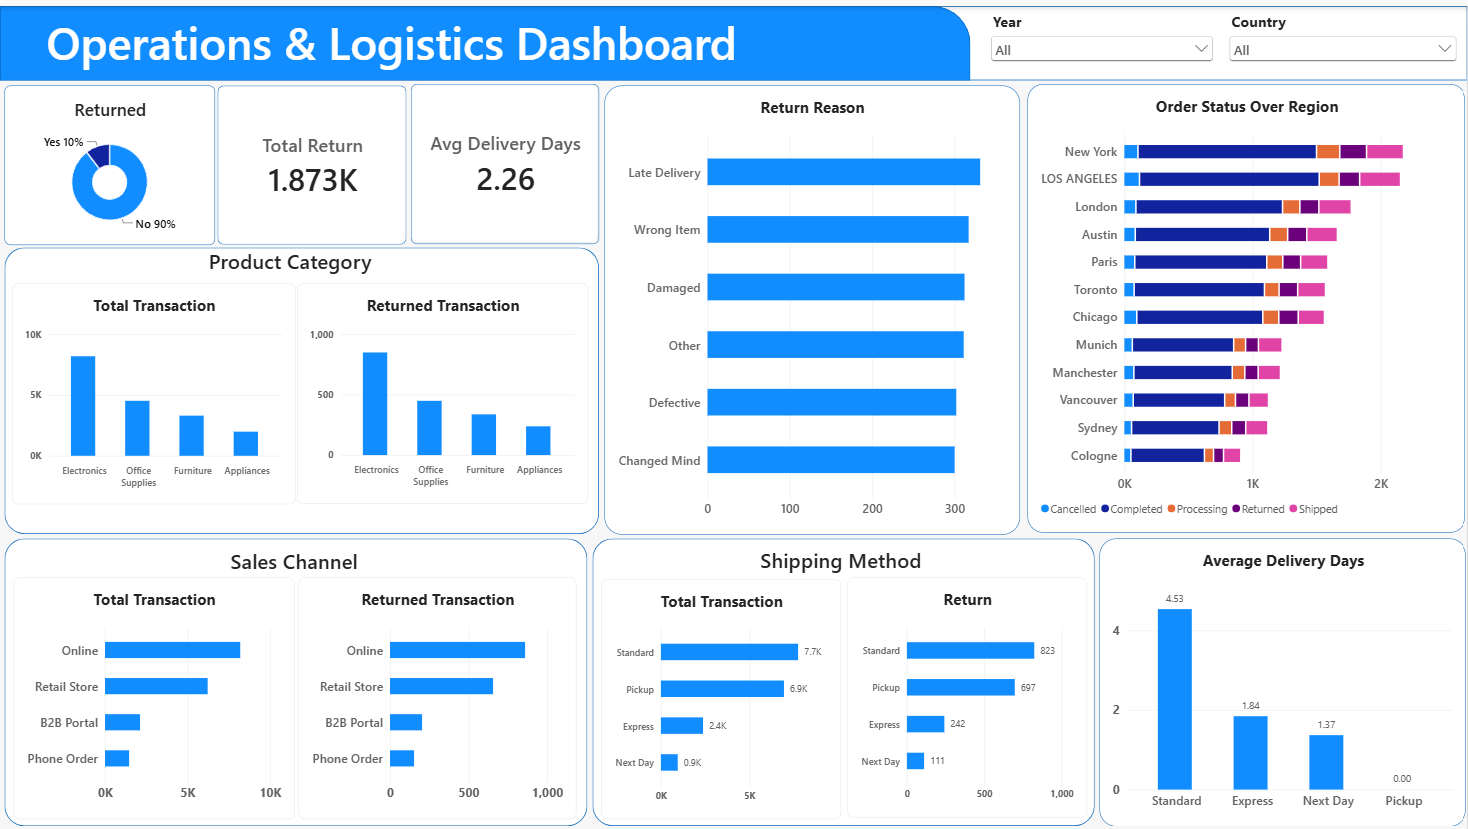

The dashboard page shown, as its layout file describes it:
{"tool":"powerbi","page":{"name":"Operations &Logistics","canvas":[1920,1080],"ordinal":1},"visuals":[{"type":"group","id":"g1","title":"Group 3","box":[0,0,1920,97.3],"z":0},{"type":"shape","box":[0,0,1269,97.6],"z":0,"group":"g2"},{"type":"shape","box":[0,0,1920,97.3],"z":0,"group":"g1"},{"type":"slicer","fields":{"Values":["Table1.Order_Date.Variation.Date Hierarchy.Year"]},"box":[1291.2,7.5,300,83.3],"z":125,"group":"g1"},{"type":"slicer","fields":{"Values":["Table1.Country"]},"box":[1602.5,7.5,306.7,83.3],"z":250,"group":"g1"},{"type":"group","id":"g2","title":"Group 1","box":[0,0,1269,97.6],"z":500},{"type":"textbox","box":[60,8.3,953.3,83.3],"z":1000,"group":"g2"},{"type":"cardVisual","fields":{"Data":["CountNonNull(Table1.Return_Flag)"]},"box":[285,103.3,247.8,208.9],"z":1000},{"type":"donutChart","title":"Returned","fields":{"Category":["Table1.Return_Flag"],"Y":["CountNonNull(Table1.Return_Flag)"]},"box":[5.6,103.3,275.6,208.9],"z":2000},{"type":"clusteredBarChart","title":"Return Reason","fields":{"Category":["Table1.Return_Reason","Table1.Sales_Channel"],"Y":["CountNonNull(Table1.Return_Reason)"]},"box":[790,103,543,587],"z":3000},{"type":"cardVisual","fields":{"Data":["Avg(Table1.Delivery_Days)"]},"box":[536.7,102.8,246.1,209.4],"z":3500},{"type":"barChart","title":"Order Status Over Region","fields":{"Category":["Table1.City"],"Series":["Table1.Order_Status"],"Y":["CountNonNull(Table1.Order_Status)"]},"box":[1343.3,102.2,573.3,586.7],"z":4000},{"type":"group","id":"g3","title":"Group 2","box":[5,696,762.5,376.2],"z":9000},{"type":"group","id":"g4","title":"Group 2","box":[5.5,316.4,777.3,374.5],"z":10000},{"type":"group","id":"g5","title":"Group 2","box":[774.1,696.4,656.7,375.8],"z":11000},{"type":"shape","box":[5.5,316.4,777.3,374.5],"z":14000,"group":"g4"},{"type":"shape","box":[5,696,762.1,376.3],"z":14000,"group":"g3"},{"type":"shape","box":[774.1,696.4,656.7,375.8],"z":14000,"group":"g5"},{"type":"textbox","box":[233.3,316.4,291.8,41.9],"z":14500,"group":"g4"},{"type":"textbox","box":[900.9,706,394.9,44.8],"z":14500,"group":"g5"},{"type":"textbox","box":[240,707.8,286.8,43.2],"z":14500,"group":"g3"},{"type":"clusteredColumnChart","title":"Average Delivery Days","fields":{"Category":["Table1.Shipping_Method"],"Y":["Avg(Table1.Delivery_Days)"]},"box":[1436.7,696.7,480,376.7],"z":14750},{"type":"clusteredBarChart","title":"Total Transaction","fields":{"Category":["Table1.Shipping_Method"],"Y":["CountNonNull(Table1.Shipping_Method)"]},"box":[786.3,748.4,313.3,313.8],"z":14750,"group":"g5"},{"type":"clusteredColumnChart","title":"Returned Transaction","fields":{"Category":["Table1.Product_Category"],"Y":["CountNonNull(Table1.Return_Flag)"]},"box":[388.3,363.7,380.9,287.7],"z":15000,"group":"g4"},{"type":"clusteredBarChart","title":"Return","fields":{"Category":["Table1.Shipping_Method"],"Y":["CountNonNull(Table1.Shipping_Method)"]},"box":[1106.6,746.7,313.3,313.8],"z":15000,"group":"g5"},{"type":"clusteredBarChart","title":"Total Transaction","fields":{"Category":["Table1.Sales_Channel"],"Y":["CountNonNull(Table1.Sales_Channel)"]},"box":[17,747.5,367.7,315.8],"z":15000,"group":"g3"},{"type":"clusteredColumnChart","title":"Total Transaction","fields":{"Category":["Table1.Product_Category"],"Y":["CountNonNull(Table1.Sales_Amount)"]},"box":[15.4,364,371,288.6],"z":15500,"group":"g4"},{"type":"clusteredBarChart","title":"Returned Transaction","fields":{"Category":["Table1.Sales_Channel"],"Y":["CountNonNull(Table1.Return_Flag)"]},"box":[390.1,746.4,363.4,315.8],"z":15500,"group":"g3"}]}

Visuals, with their boxes in screenshot pixels (x1, y1, x2, y2), scaled from the page's 1920x1080 canvas onto the 1468x829 screenshot:
"Group 3" group: (0,0,1467,75)
shape: (0,0,970,75)
shape: (0,0,1467,75)
slicer - Table1.Order_Date.Variation.Date Hierarchy.Year: (987,6,1217,70)
slicer - Table1.Country: (1225,6,1460,70)
"Group 1" group: (0,0,970,75)
textbox: (46,6,775,70)
cardVisual - CountNonNull(Table1.Return_Flag): (218,79,407,240)
"Returned" donutChart: (4,79,215,240)
"Return Reason" clusteredBarChart: (604,79,1019,530)
cardVisual - Avg(Table1.Delivery_Days): (410,79,599,240)
"Order Status Over Region" barChart: (1027,78,1465,529)
"Group 2" group: (4,534,587,823)
"Group 2" group: (4,243,599,530)
"Group 2" group: (592,535,1094,823)
shape: (4,243,599,530)
shape: (4,534,587,823)
shape: (592,535,1094,823)
textbox: (178,243,401,275)
textbox: (689,542,991,576)
textbox: (184,543,403,576)
"Average Delivery Days" clusteredColumnChart: (1098,535,1465,824)
"Total Transaction" clusteredBarChart: (601,574,841,815)
"Returned Transaction" clusteredColumnChart: (297,279,588,500)
"Return" clusteredBarChart: (846,573,1086,814)
"Total Transaction" clusteredBarChart: (13,574,294,816)
"Total Transaction" clusteredColumnChart: (12,279,295,501)
"Returned Transaction" clusteredBarChart: (298,573,576,815)
